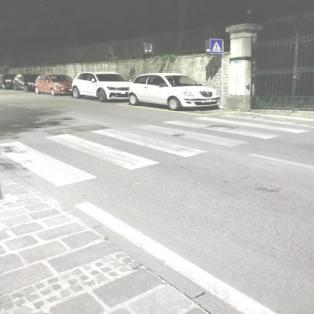Paso de Cebra: (39, 122, 210, 172)
